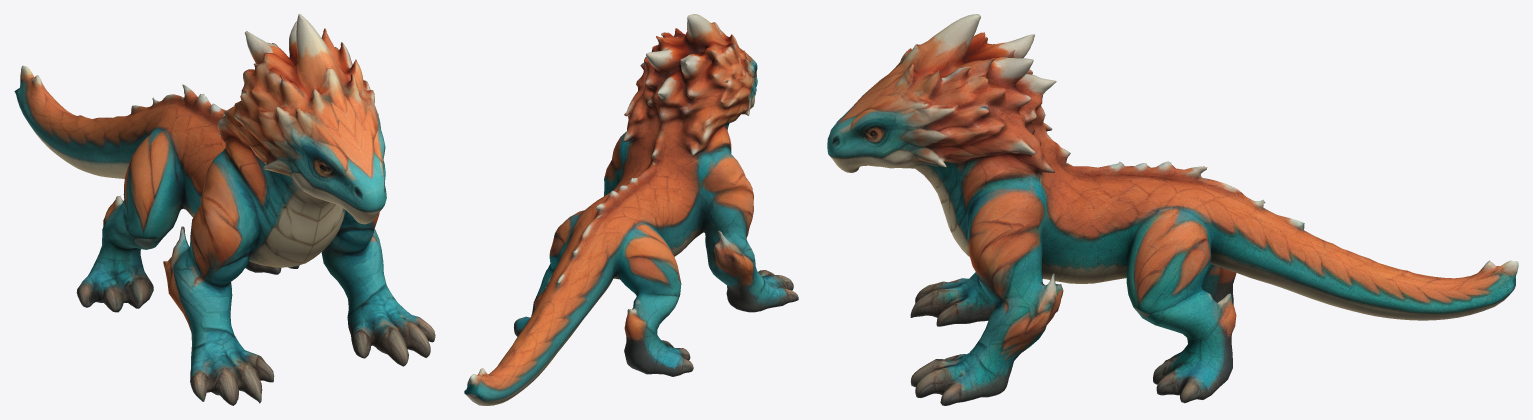
Rendered from scarlet-gecko-meshy-source-v2.glb.
3 renders of one model, left to right at view 1: azimuth 30°, elevation 25°; view 2: azimuth 150°, elevation 25°; view 3: azimuth 270°, elevation 25°, orthographic. The views are drawn at different scales.
Bounding box in the file's own units: 0.7832 × 1.08 × 2.
1 material, 1 textured.
